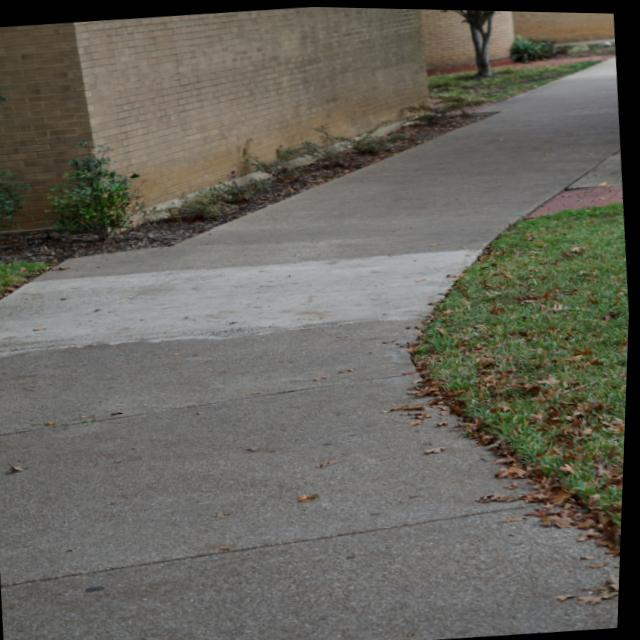Sidewalk: (0, 54, 624, 640)
